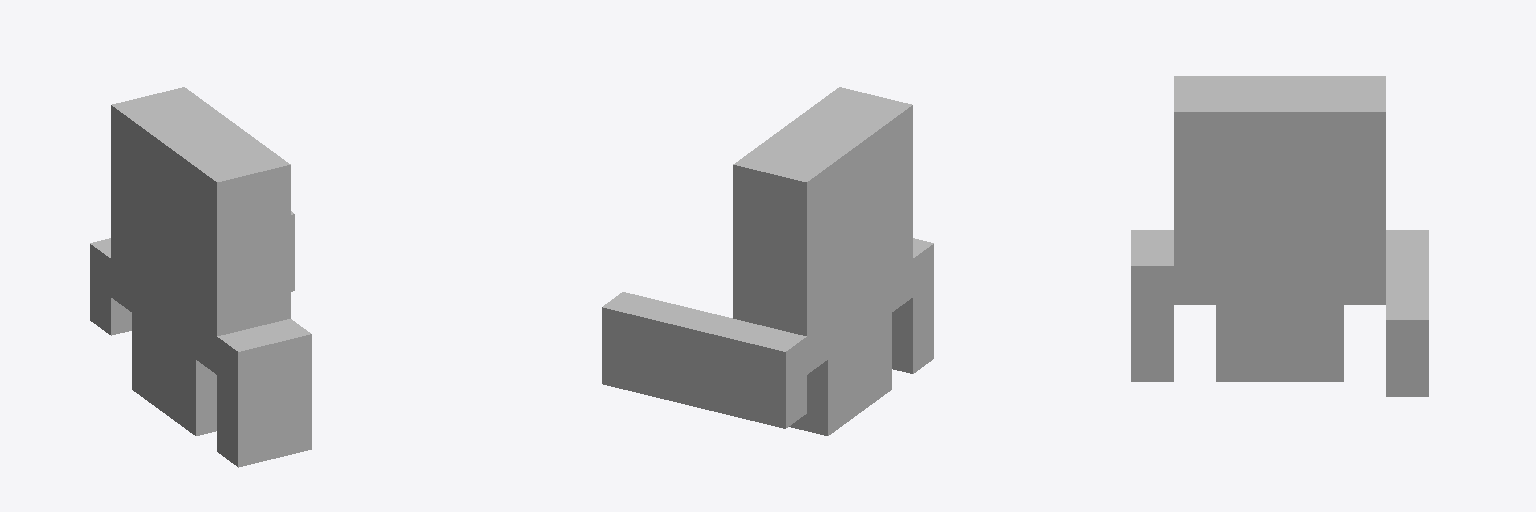
File: player_torso_s-03.obj
The picture shows the model from 3 angles: view 1: azimuth 30°, elevation 25°; view 2: azimuth 150°, elevation 25°; view 3: azimuth 270°, elevation 25°; orthographic projection.
Bounding box in the file's own units: 5 × 7 × 7.